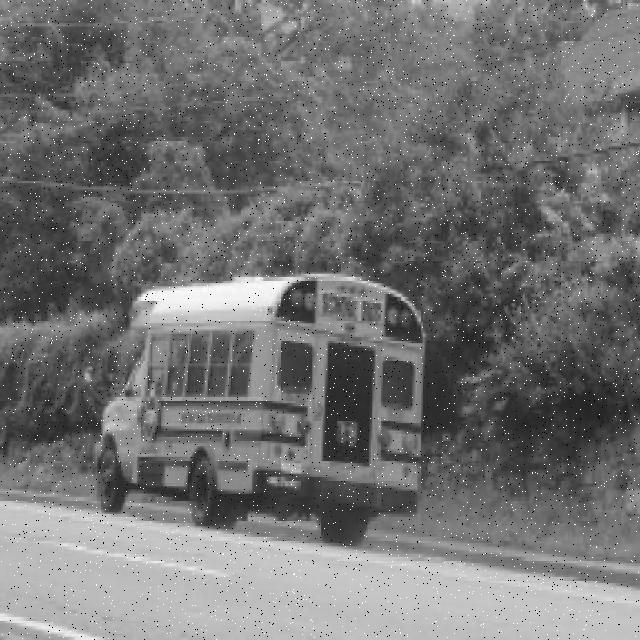Bus- Small: (79, 274, 427, 548)
